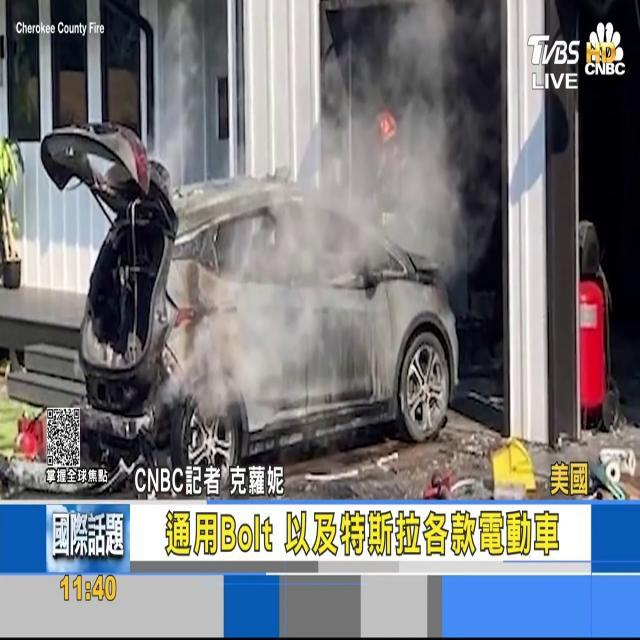Smoke: (176, 3, 487, 444)
